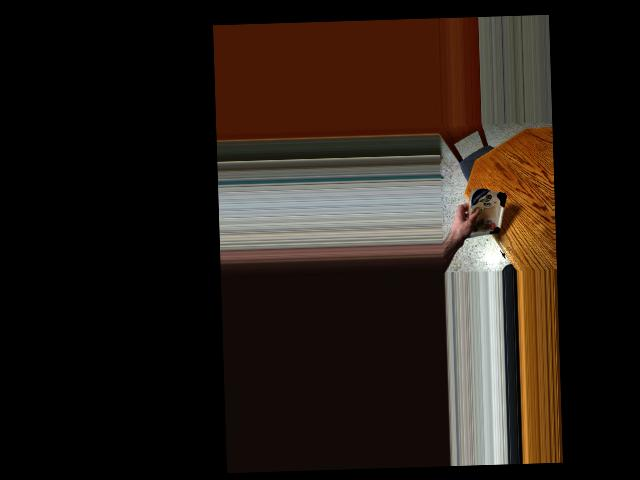cheese: (464, 185, 505, 246)
